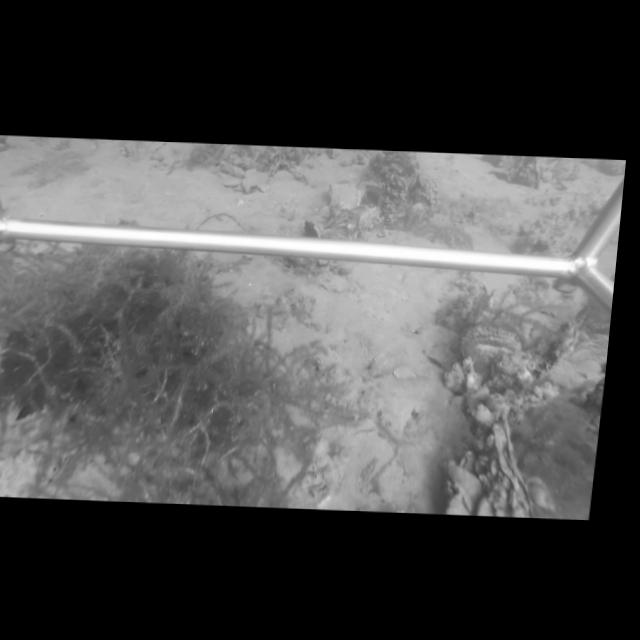Oyster-Closed: (472, 405, 536, 514), (534, 319, 581, 381), (305, 218, 323, 238)
